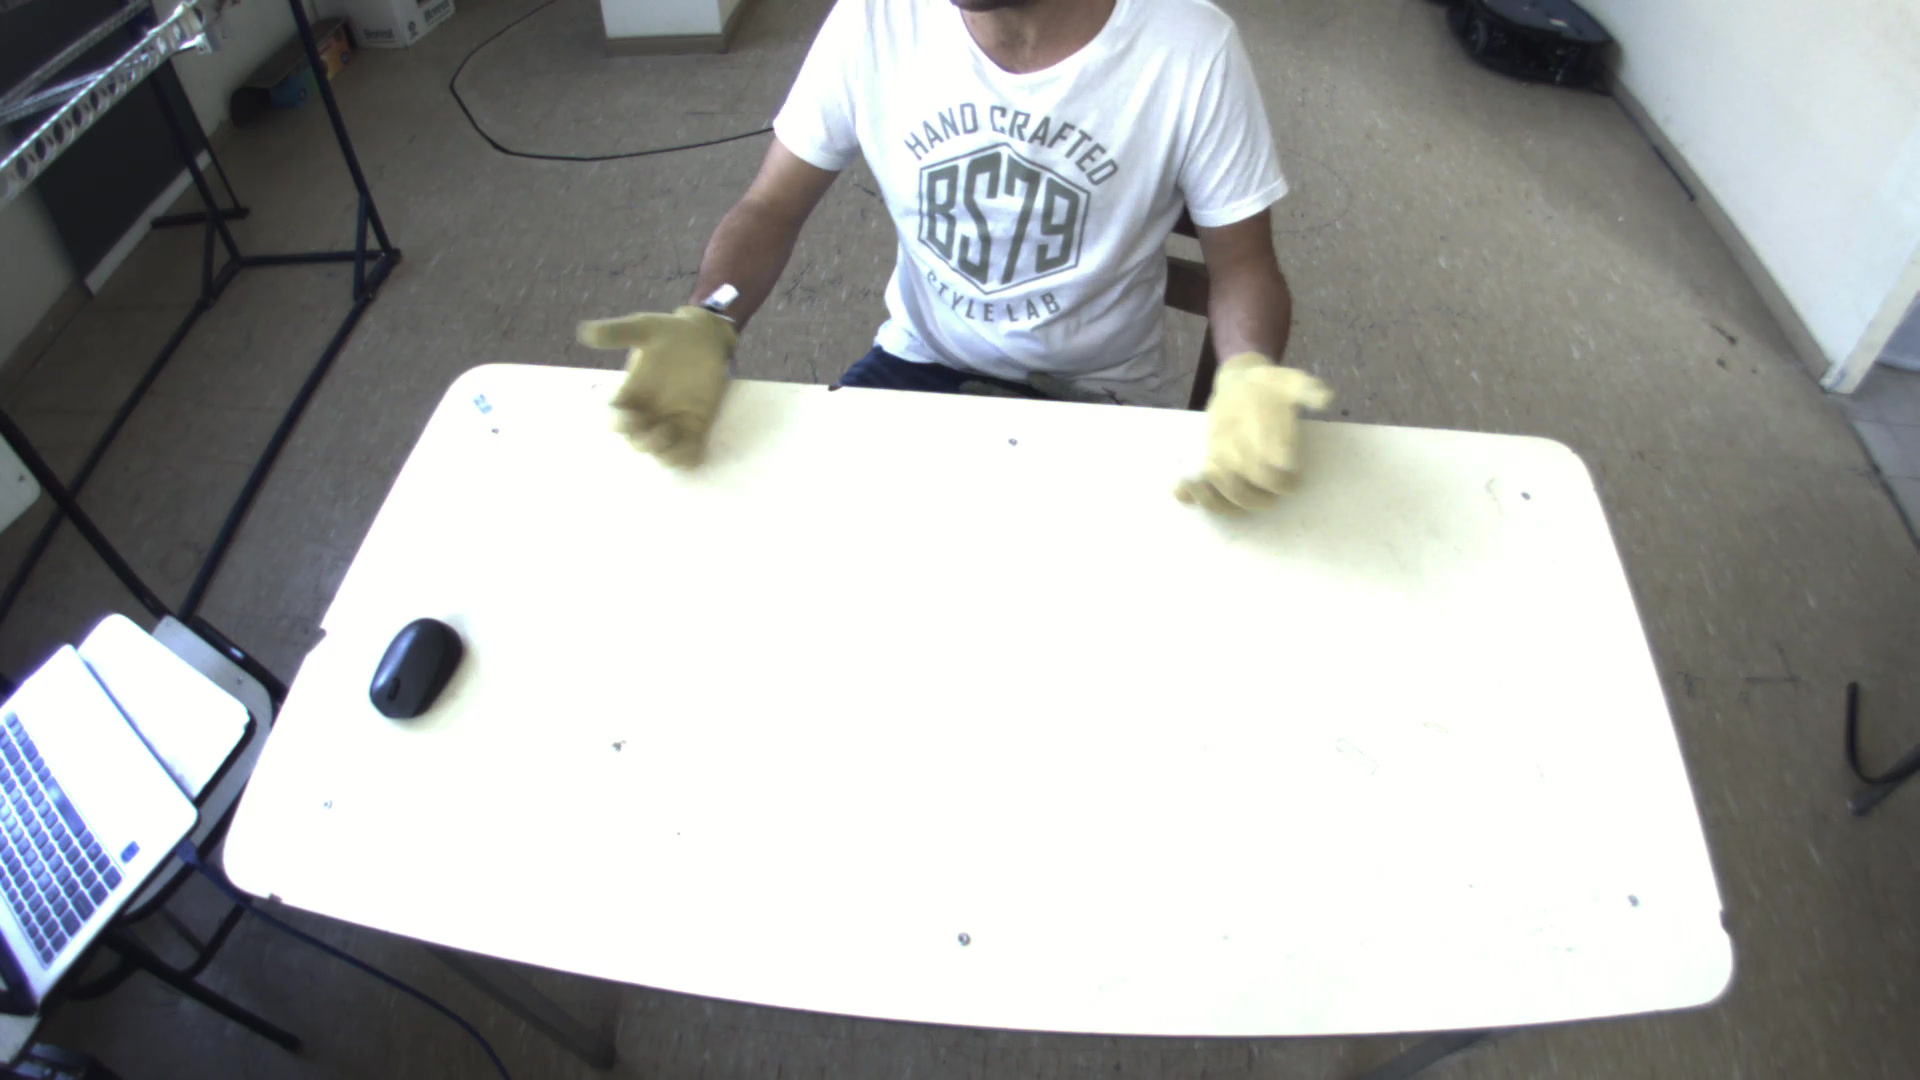hand: (568, 282, 744, 472), (1182, 343, 1341, 513)
